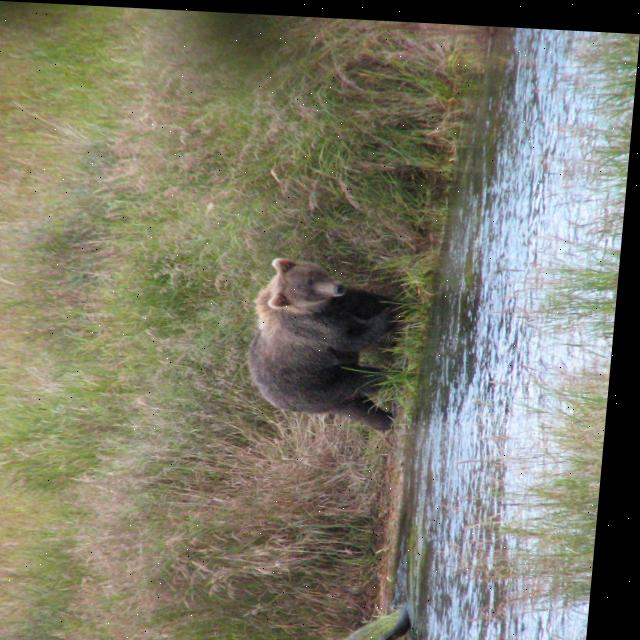bear face: (250, 251, 408, 425)
